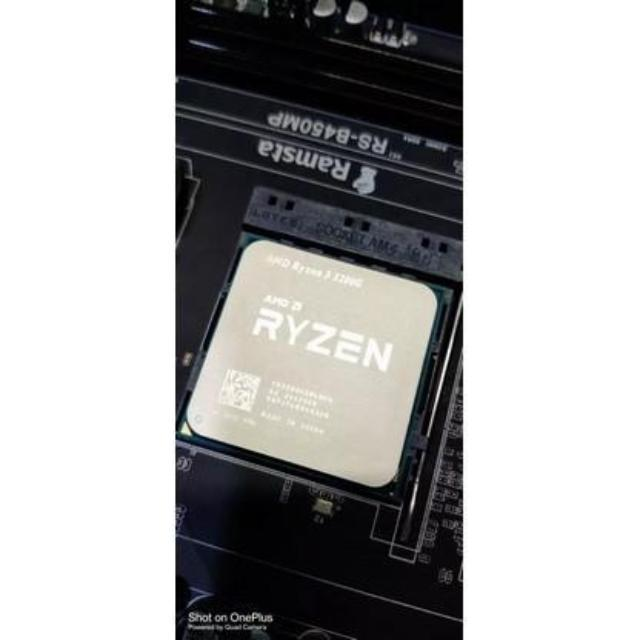CPU: (182, 238, 444, 496)
